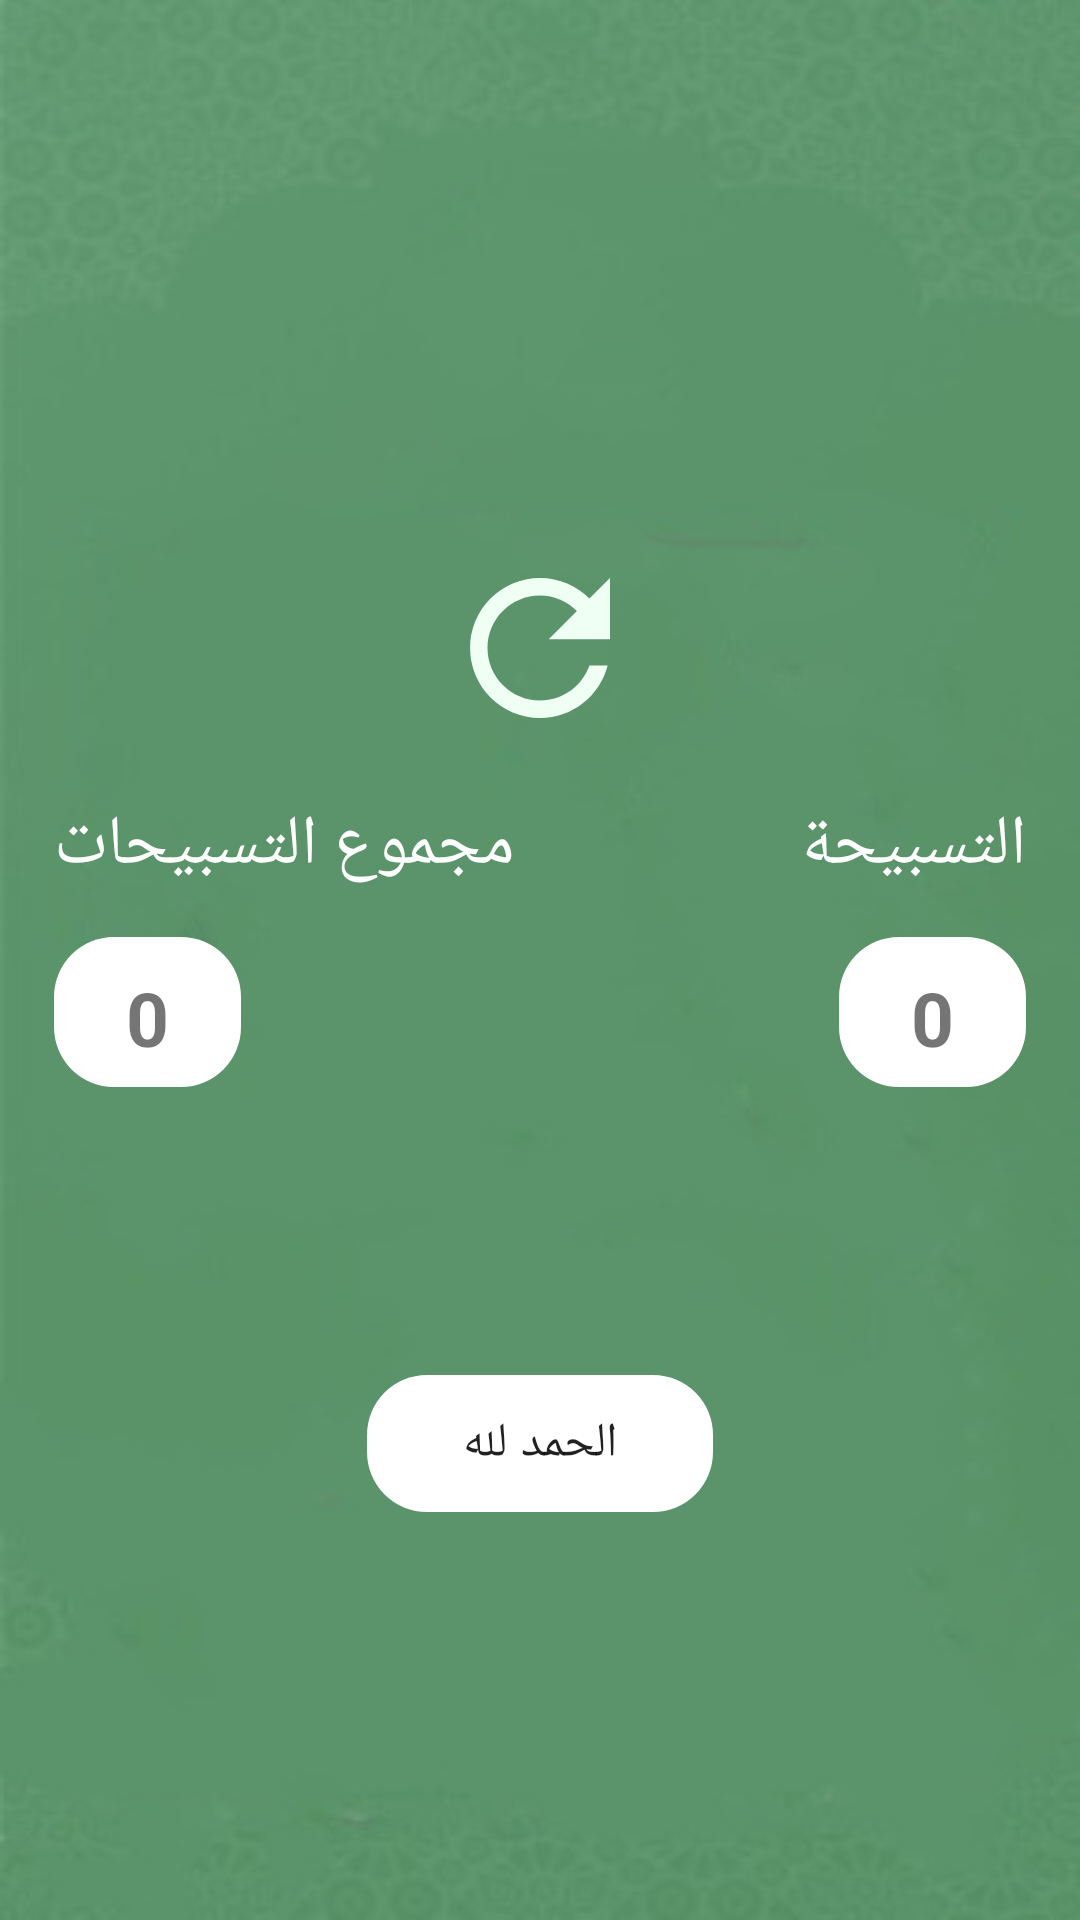

Icons on this 1080w x 1920h Android screen, each with its box as (x1, y1, x2, y2):
refresh icon: (470, 578, 610, 718)
